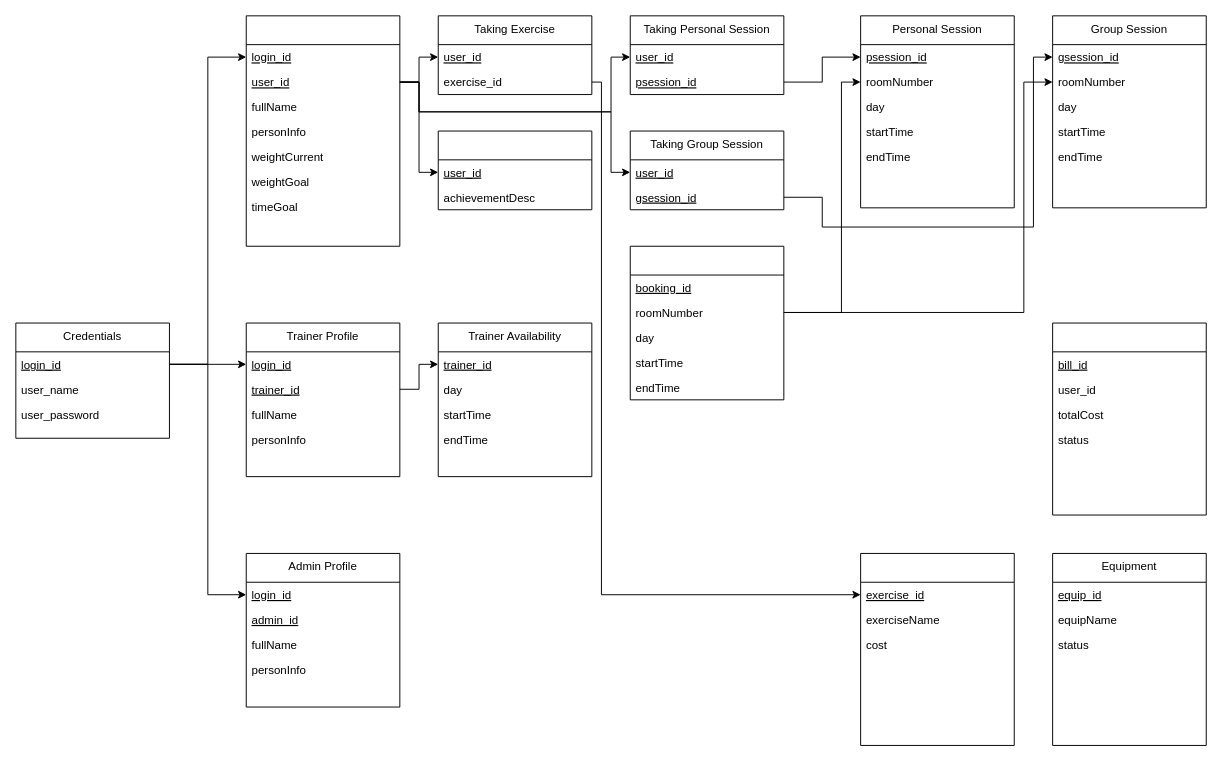
This 1222x761 diagram has some shape labels left out. The shapes that lost their labels are listed below. From the top down, each one's box as (x1, y1, x2, y2) in pixels, then its label:
(245, 15, 400, 246): Member Profile
(437, 130, 592, 210): Achievements
(629, 245, 784, 400): Room Bookings
(1052, 322, 1206, 515): Bills
(860, 552, 1014, 745): Exercises
